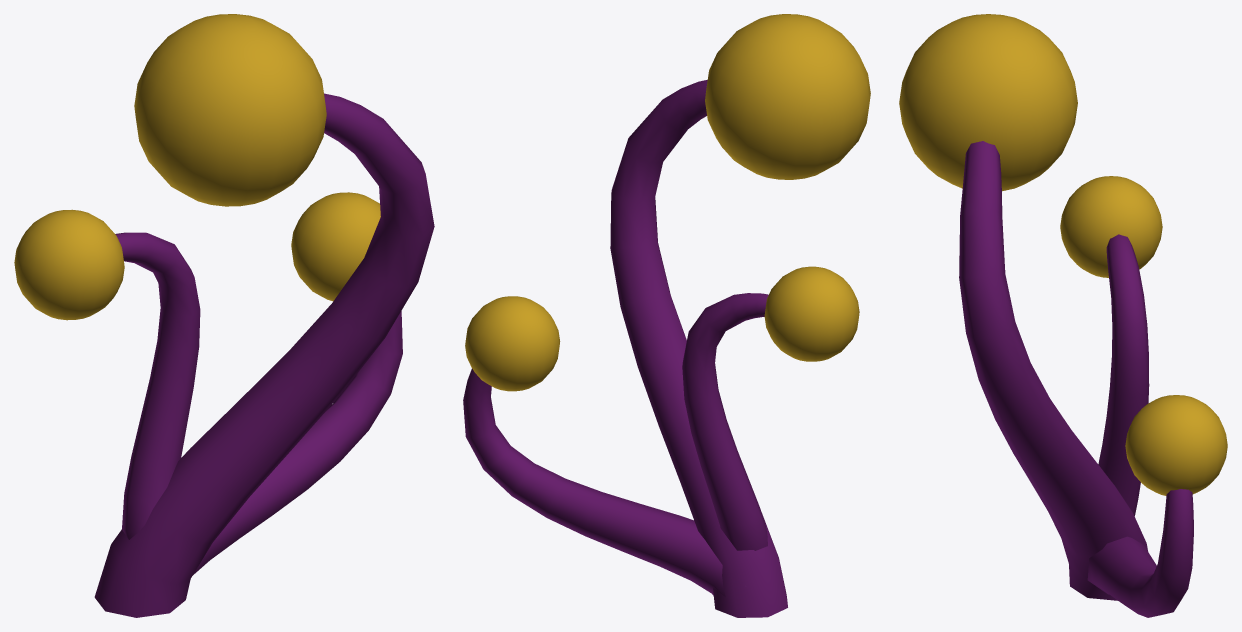
Rendered from Tree Light 1.glb.
The picture shows the model from 3 angles, left to right: view 1: azimuth 30°, elevation 25°; view 2: azimuth 150°, elevation 25°; view 3: azimuth 270°, elevation 25°; orthographic projection. The views are drawn at different scales.
Parts seen in each view (by area): view 1: Tree_Light_1; view 2: Tree_Light_1; view 3: Tree_Light_1.
Part boxes in pixels (bbox=[...]): Tree_Light_1: bbox=[14, 14, 434, 617]; Tree_Light_1: bbox=[463, 14, 870, 617]; Tree_Light_1: bbox=[899, 14, 1227, 617].
Size of the model in its own units: 2.63 by 3.76 by 1.96.
Materials: 1 (1 with a texture image).
